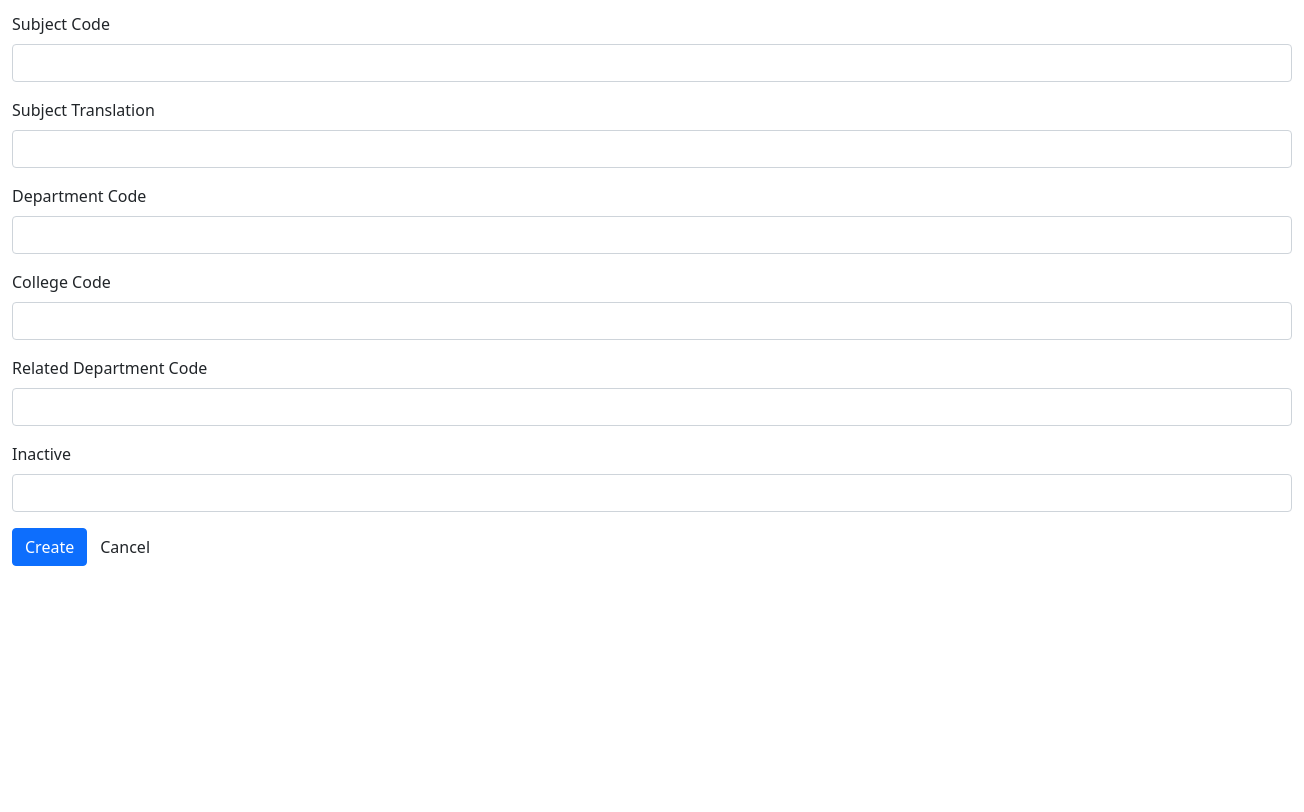
it: UCSBSubjectsForm tests › Correct Error messsages on missing input
Click the button with test id "UCSBSubjectsForm-submit".
click(50, 547)  # box [12,528,87,566]
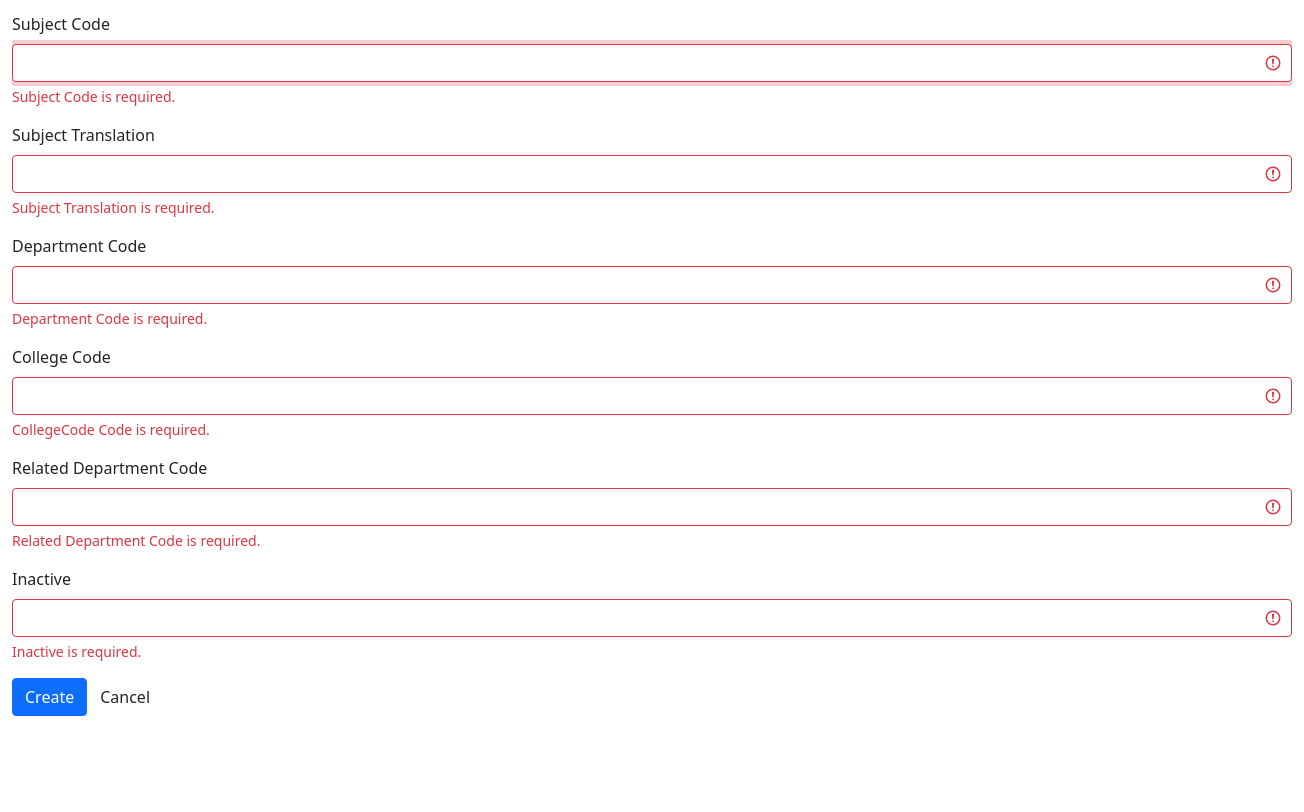
Now the text "Subject Code is required." is shown, box [12,87,175,106]
Now the text "Subject Translation is required." is shown, box [12,198,215,217]
Now the text "Department Code is required." is shown 2 times, box [12,309,207,328]; [12,531,260,550]
